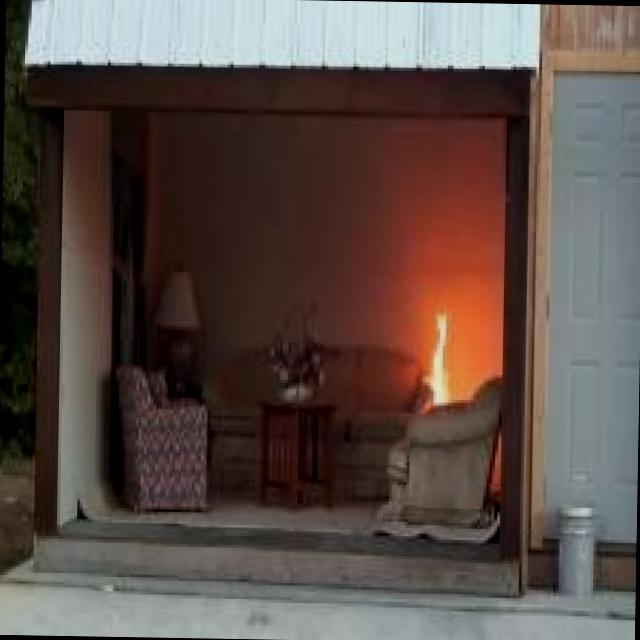fire: (408, 310, 471, 403)
